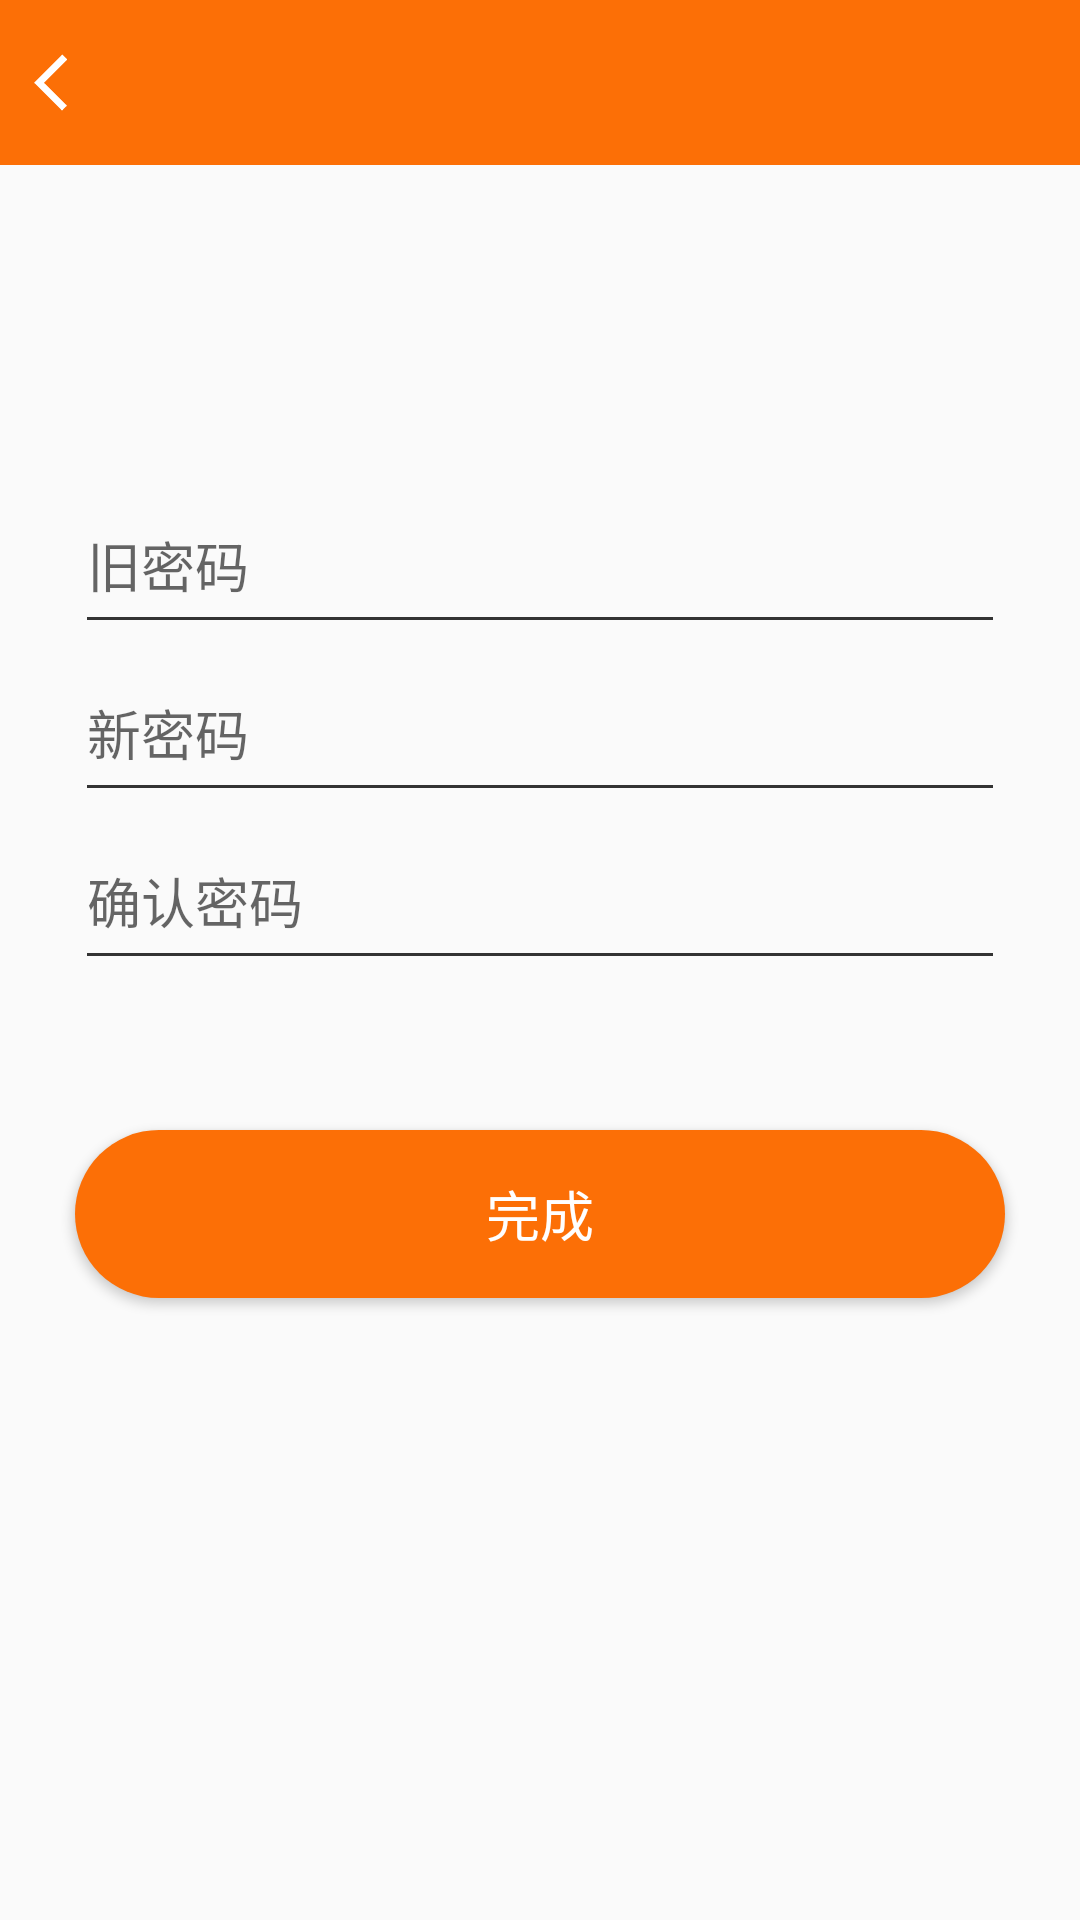

Icon bounding boxes for this 1080w x 1920h phone screenshot, format (x1, y1, x2, y2):
back: (34, 54, 67, 111)
